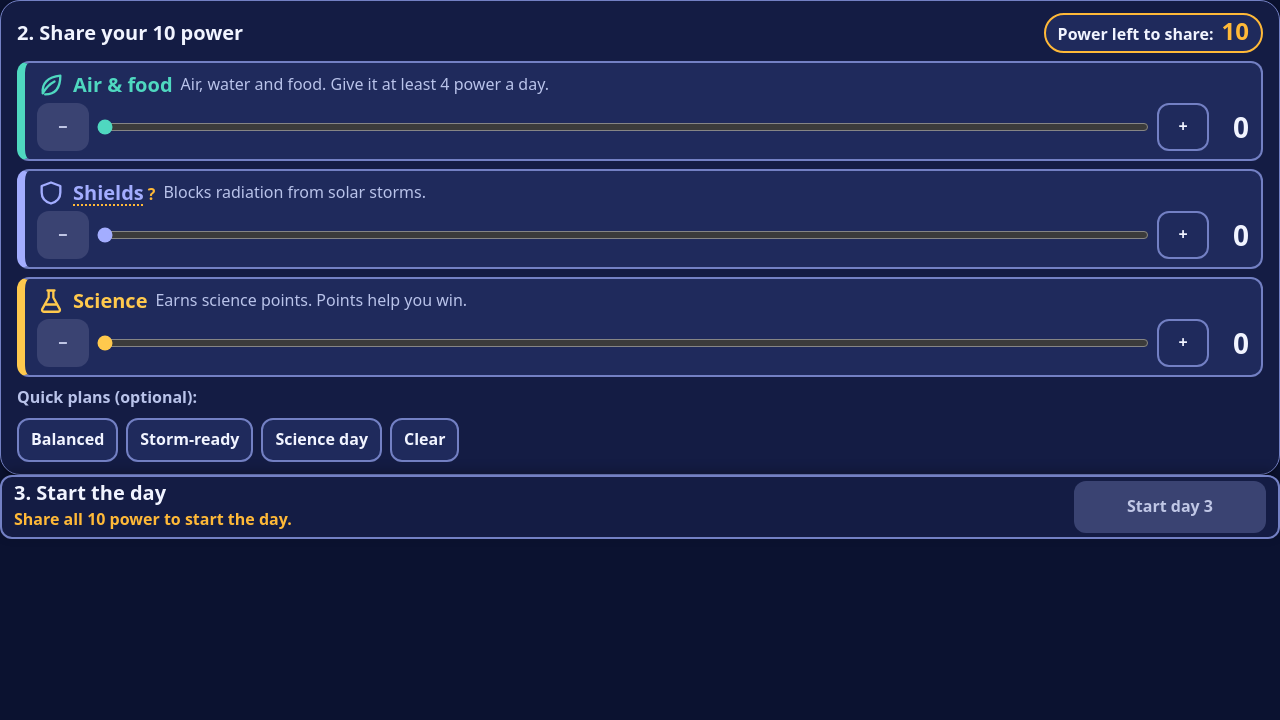
Test: PowerAllocator warnings › warns (icon + text) when Air & food has less than 4 and some power is shared
The image size is (1280, 720).
Click the 2nd button "+". click: x=1183, y=235
box: [1157,211,1209,259]
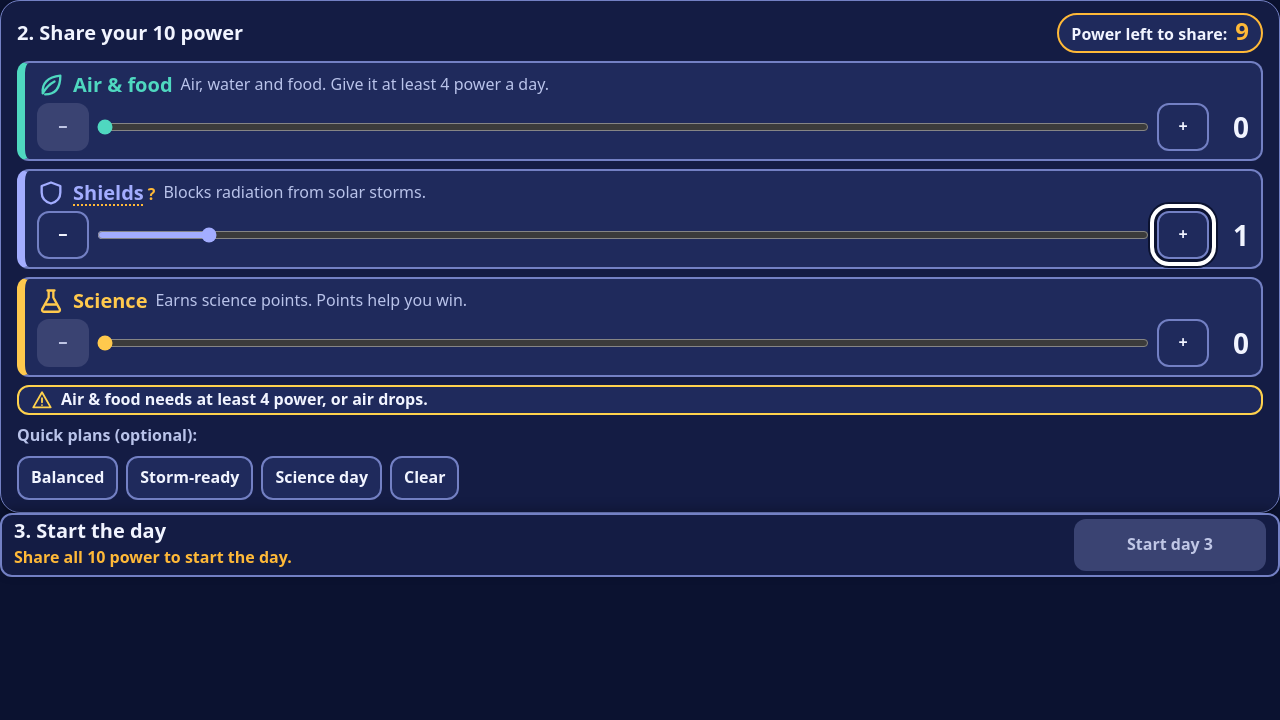
Expected: the 4th icon is shown, [31,389,53,411]
Click the 1st button "+". click: x=1183, y=127
box: [1157,103,1209,151]
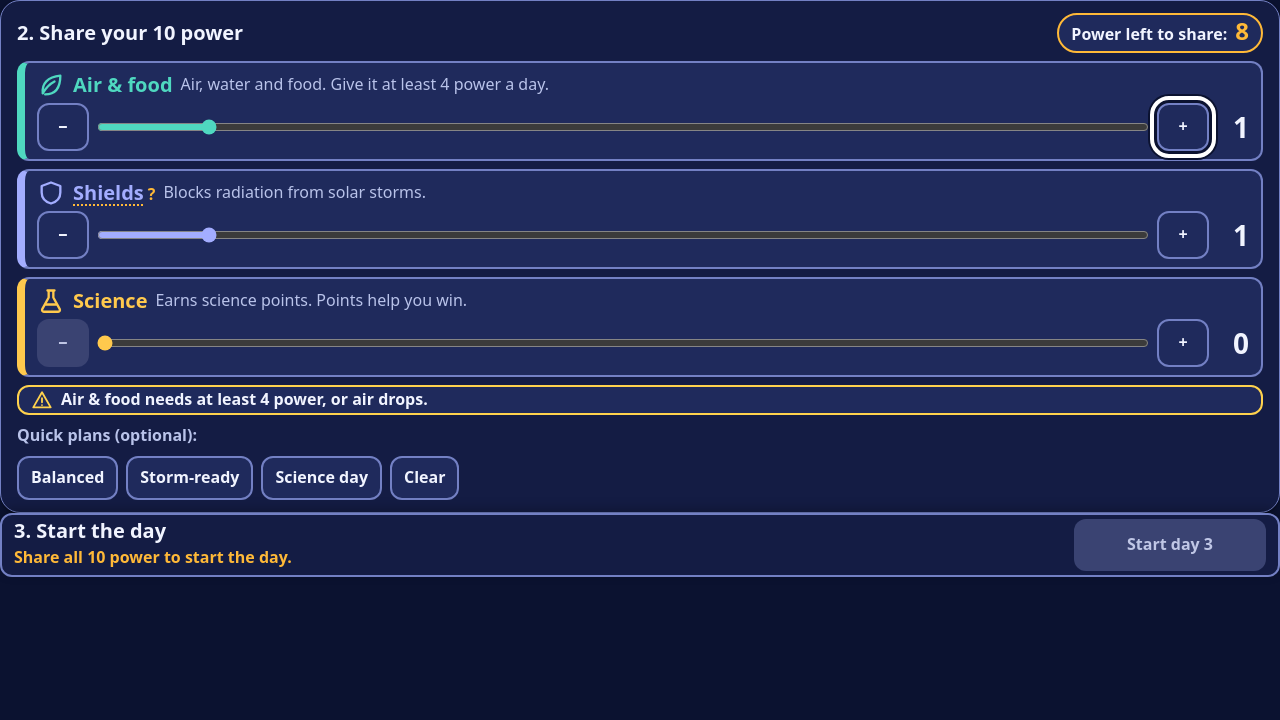
Click the 1st button "+". click: x=1183, y=127
box: [1157,103,1209,151]
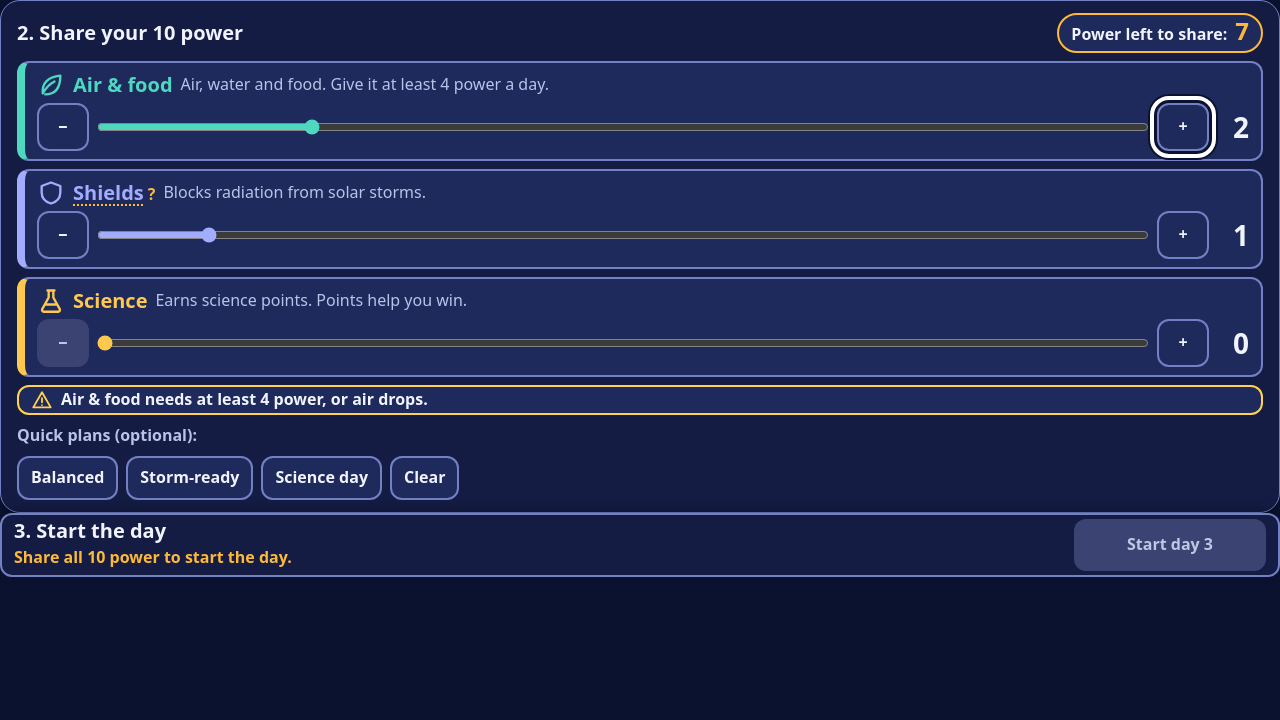
Click the 1st button "+". click: x=1183, y=127
box: [1157,103,1209,151]
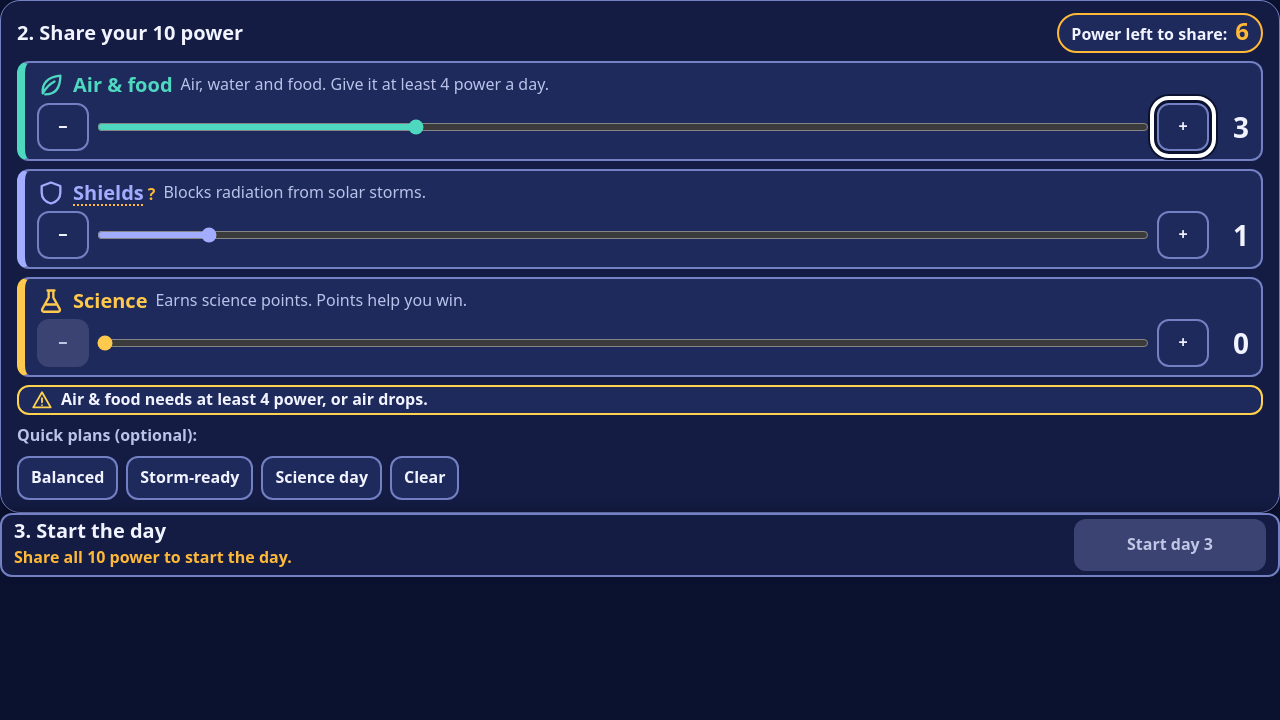
Expected: the text "Air & food needs at least 4 power, or air drops." is shown, [61,390,428,409]
Click the 1st button "+". click: x=1183, y=127
box: [1157,103,1209,151]
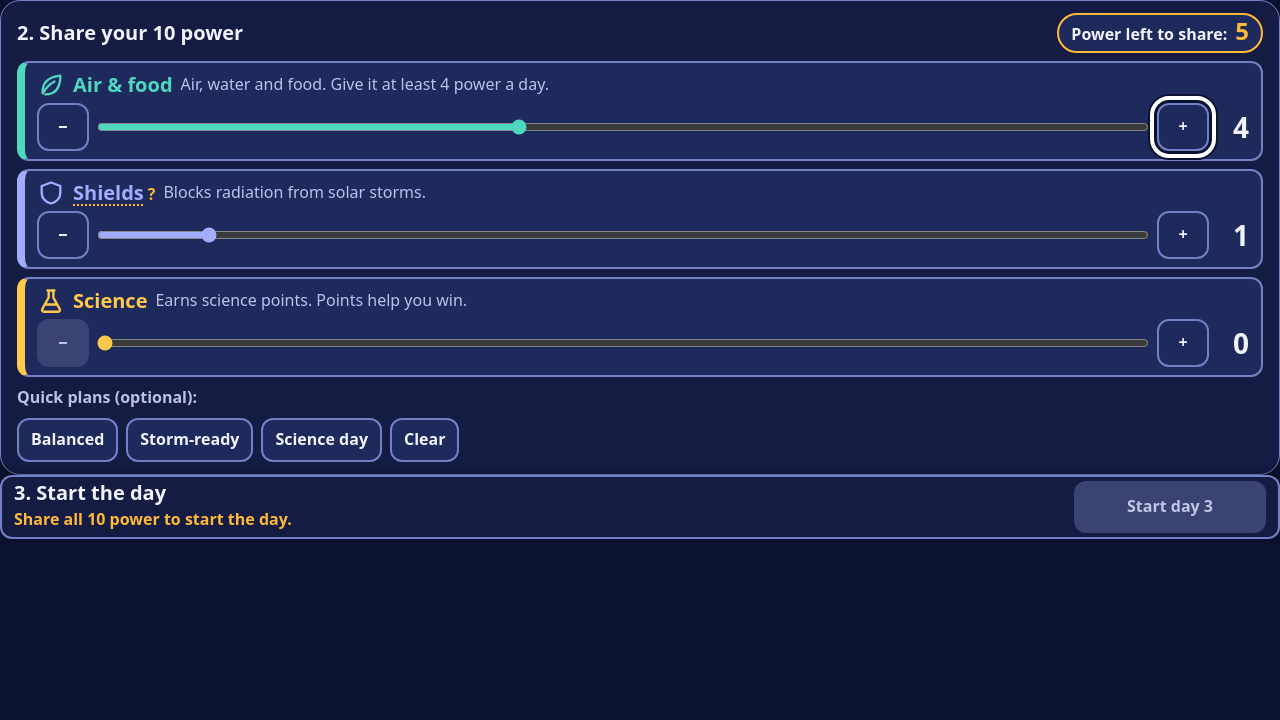
Expected: the text "Air & food needs at least 4 power, or air drops." is gone
